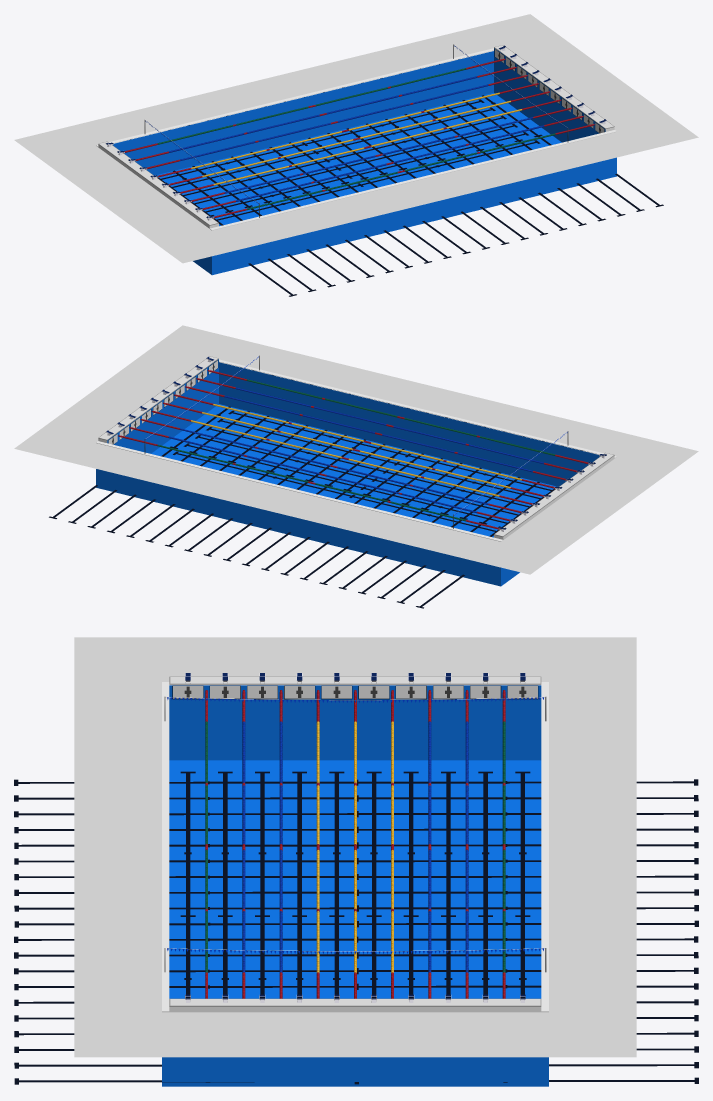
The model's file is pool.dae.
3 views of the same model, one above another, from view 1: azimuth 30°, elevation 25°; view 2: azimuth 150°, elevation 25°; view 3: azimuth 270°, elevation 25° (orthographic). The views are drawn at different scales.
Visible parts, largest first — view 1: Piscina_Cube.001, Suelo_Plane, Boyas_Cilindro.022, Lineas_Fondo_Piscina_Plano.008, Borde_Piscina_Cube.002, Lineas_Fondo_Piscina_Plano.001, Lineas_Fondo_Piscina_Plano.002, Cube.003, Sensores_Cube.033, Cube.006, Trampolin_Cilindro.090; view 2: Piscina_Cube.001, Suelo_Plane, Boyas_Cilindro.022, Lineas_Fondo_Piscina_Plano.008, Borde_Piscina_Cube.002, Lineas_Fondo_Piscina_Plano.001, Lineas_Fondo_Piscina_Plano.002, Cube.003, Cube.006, Sensores_Cube.033, Trampolin_Cilindro.090; view 3: Suelo_Plane, Piscina_Cube.001, Lineas_Fondo_Piscina_Plano.002, Lineas_Fondo_Piscina_Plano.008, Boyas_Cilindro.022, Lineas_Fondo_Piscina_Plano.001, Borde_Piscina_Cube.002, Sensores_Cube.033, Cube.006, Cube.003, Banderines_Cilindro.084, Trampolin_Cilindro.090 (+2 smaller).
Boxes of the visible parts, box(x1,y1,x2,y2) form: Piscina_Cube.001: box(113, 48, 616, 275); Suelo_Plane: box(14, 14, 698, 263); Boyas_Cilindro.022: box(123, 58, 594, 218); Lineas_Fondo_Piscina_Plano.008: box(159, 99, 540, 220); Borde_Piscina_Cube.002: box(96, 48, 616, 230); Lineas_Fondo_Piscina_Plano.001: box(285, 59, 663, 249); Lineas_Fondo_Piscina_Plano.002: box(130, 111, 470, 296); Cube.003: box(99, 142, 217, 224); Sensores_Cube.033: box(494, 49, 604, 133); Cube.006: box(495, 45, 613, 128); Trampolin_Cilindro.090: box(105, 45, 606, 220); Piscina_Cube.001: box(96, 359, 600, 586); Suelo_Plane: box(14, 325, 698, 574); Boyas_Cilindro.022: box(118, 370, 589, 529); Lineas_Fondo_Piscina_Plano.008: box(173, 410, 553, 532); Borde_Piscina_Cube.002: box(96, 359, 616, 541); Lineas_Fondo_Piscina_Plano.001: box(49, 370, 426, 561); Lineas_Fondo_Piscina_Plano.002: box(242, 417, 582, 608); Cube.003: box(495, 453, 613, 536); Cube.006: box(99, 356, 217, 439); Sensores_Cube.033: box(108, 360, 218, 444); Trampolin_Cilindro.090: box(106, 356, 606, 531); Suelo_Plane: box(74, 637, 636, 1057); Piscina_Cube.001: box(162, 685, 548, 1086); Lineas_Fondo_Piscina_Plano.002: box(14, 779, 698, 927); Lineas_Fondo_Piscina_Plano.008: box(180, 771, 530, 994); Boyas_Cilindro.022: box(205, 690, 505, 998); Lineas_Fondo_Piscina_Plano.001: box(14, 936, 698, 1084); Borde_Piscina_Cube.002: box(162, 682, 548, 1012); Sensores_Cube.033: box(172, 685, 538, 699); Cube.006: box(170, 999, 540, 1005); Cube.003: box(170, 677, 540, 683); Banderines_Cilindro.084: box(164, 697, 546, 972); Trampolin_Cilindro.090: box(185, 673, 525, 1002).
Size of the model in its own units: 35.32 by 24.34 by 3.9.
